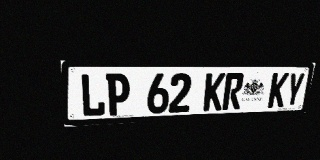2: (169, 73, 192, 113)
6: (147, 73, 170, 114)
K: (203, 73, 226, 111), (267, 73, 289, 108)
L: (80, 73, 105, 117)
P: (106, 73, 130, 116)
R: (222, 73, 245, 110)
Y: (283, 72, 305, 107)
